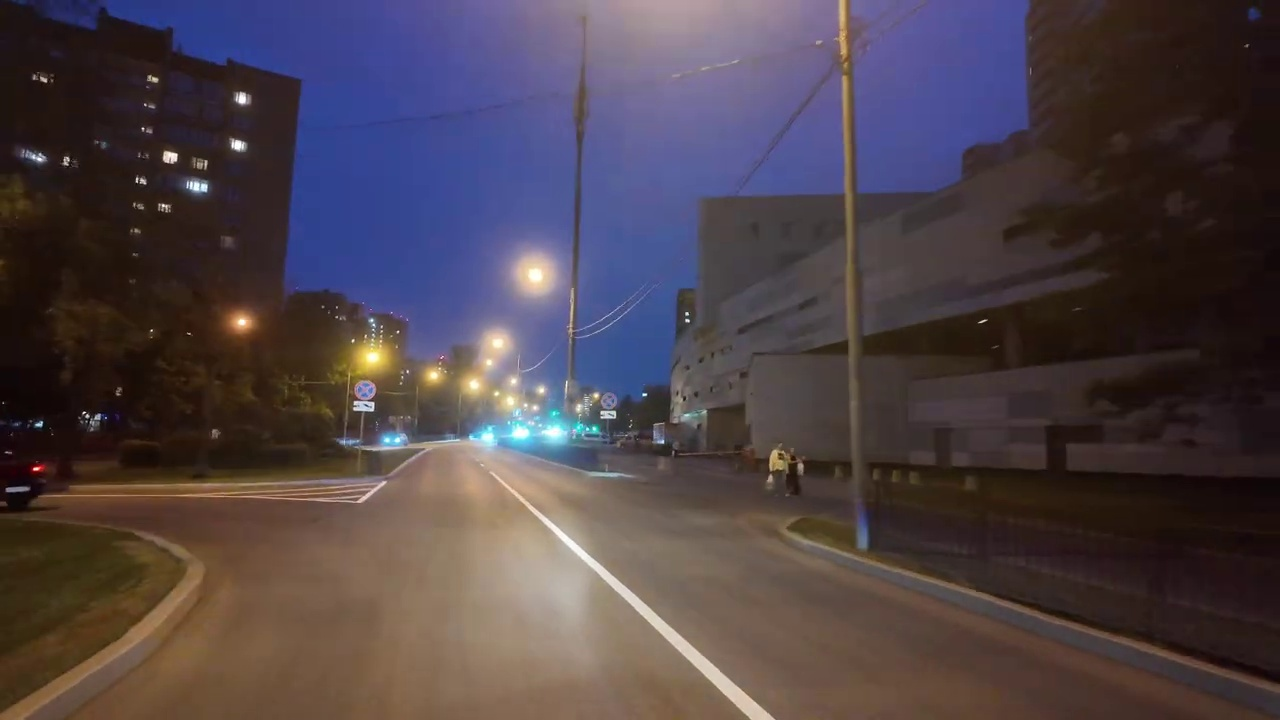acesa: (516, 257, 553, 293), (353, 342, 391, 376), (225, 308, 257, 337), (482, 331, 510, 358)
